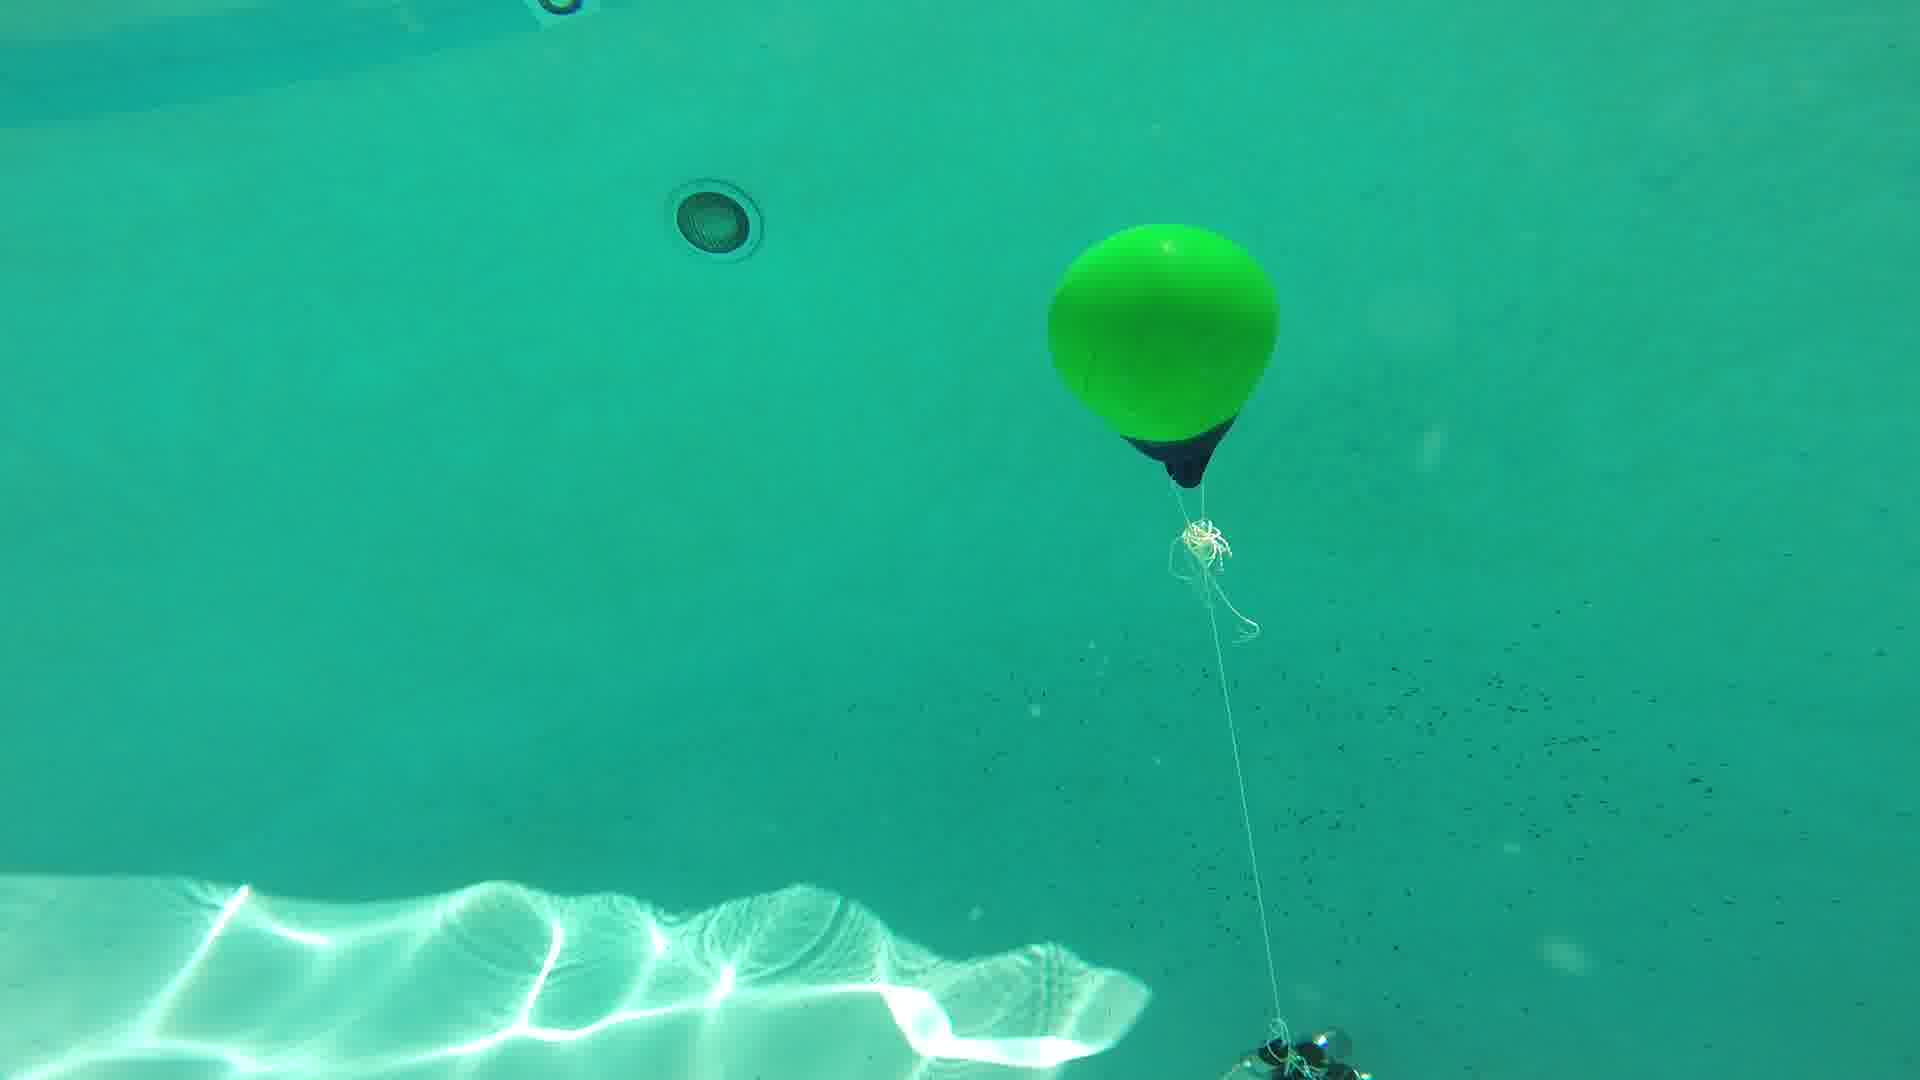yellow_buoy: (1046, 225, 1279, 489)
